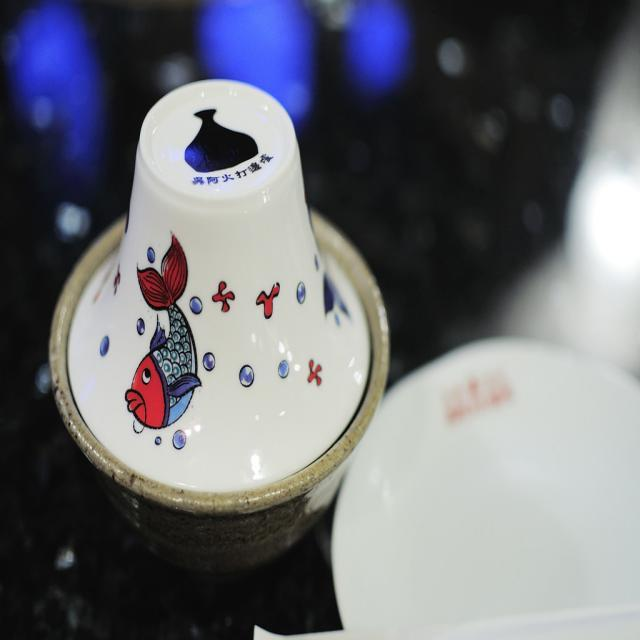ceramic plate: (312, 314, 640, 640)
